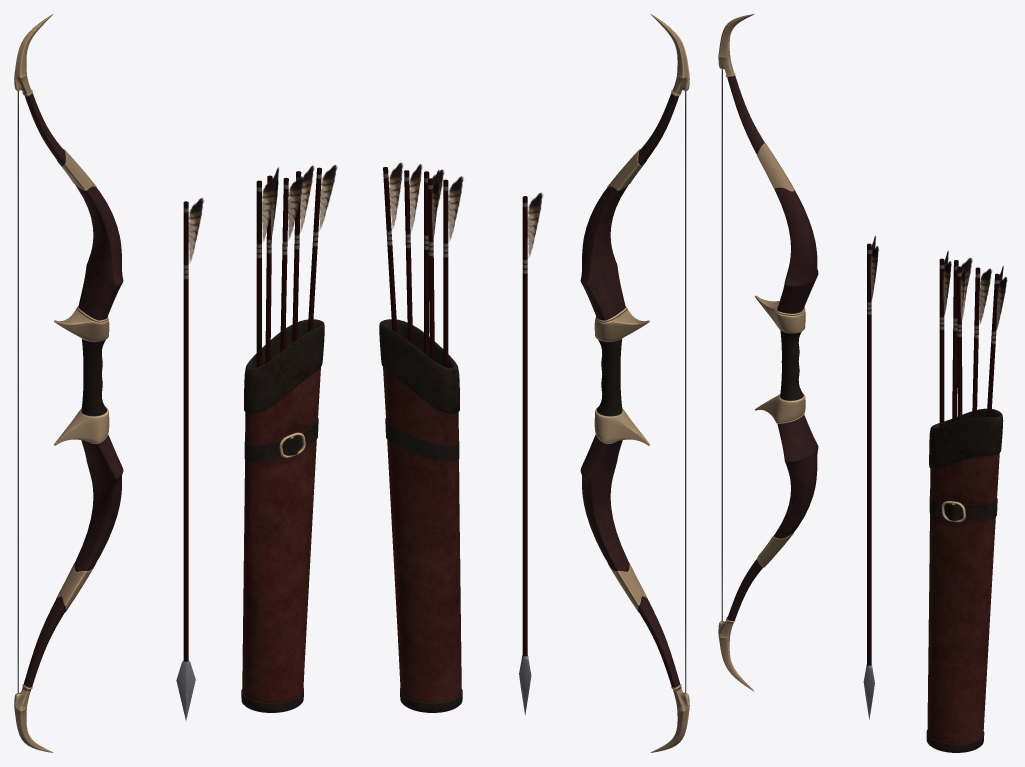
The model's file is bow_and_arrow.glb.
3 renders of one model, left to right at view 1: azimuth 30°, elevation 25°; view 2: azimuth 150°, elevation 25°; view 3: azimuth 330°, elevation 25°, orthographic. The views are drawn at different scales.
Visible parts, largest first — view 1: quiver, bow, arrow.005, arrow.004, arrow.001, arrow.002, arrow.003, arrow; view 2: quiver, bow, arrow.005, arrow.004, arrow.002, arrow.003, arrow, arrow.001; view 3: quiver, bow, arrow.005, arrow.004, arrow.003, arrow.001, arrow.002, arrow.
Boxes of the visible parts, left/top/right/bottom form: quiver: left=241, top=319, right=324, bottom=712; bow: left=14, top=14, right=123, bottom=752; arrow.005: left=176, top=198, right=203, bottom=720; arrow.004: left=256, top=177, right=276, bottom=367; arrow.001: left=280, top=176, right=304, bottom=352; arrow.002: left=307, top=165, right=337, bottom=332; arrow.003: left=292, top=165, right=314, bottom=342; arrow: left=265, top=167, right=278, bottom=363; quiver: left=379, top=319, right=462, bottom=712; bow: left=580, top=14, right=689, bottom=752; arrow.005: left=519, top=192, right=543, bottom=715; arrow.004: left=443, top=176, right=463, bottom=367; arrow.002: left=383, top=162, right=403, bottom=333; arrow.003: left=404, top=164, right=422, bottom=343; arrow: left=428, top=170, right=439, bottom=361; arrow.001: left=424, top=169, right=444, bottom=356; quiver: left=926, top=408, right=1003, bottom=752; bow: left=718, top=14, right=818, bottom=691; arrow.005: left=863, top=235, right=878, bottom=719; arrow.004: left=939, top=250, right=951, bottom=426; arrow.003: left=972, top=267, right=991, bottom=417; arrow.001: left=957, top=259, right=969, bottom=420; arrow.002: left=986, top=265, right=1007, bottom=417; arrow: left=952, top=258, right=972, bottom=422.
Size of the model in its own units: 0.5432 by 1.19 by 0.0874.
5 materials, 5 textured.
